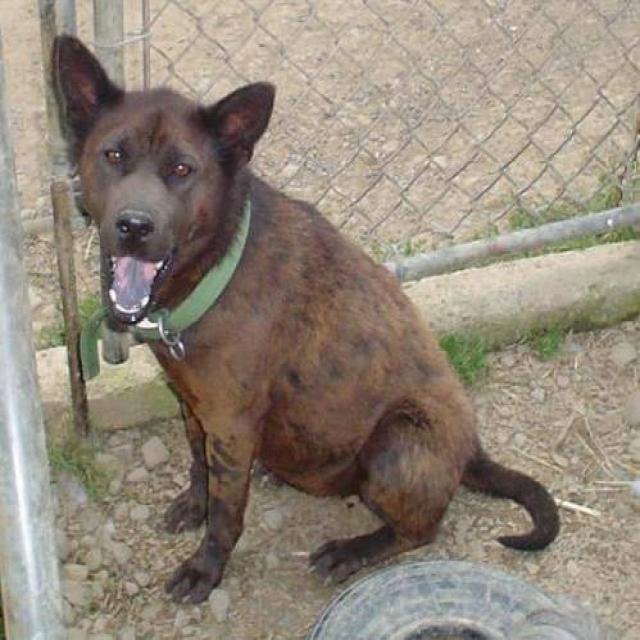dog: (48, 31, 560, 606)
